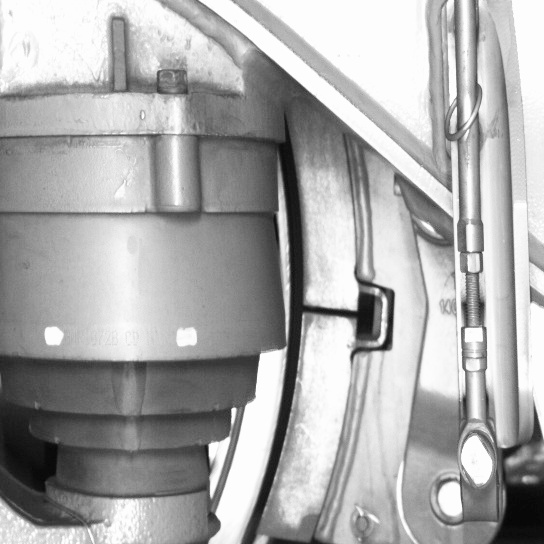KnifeSwitch: (236, 136, 369, 541)
